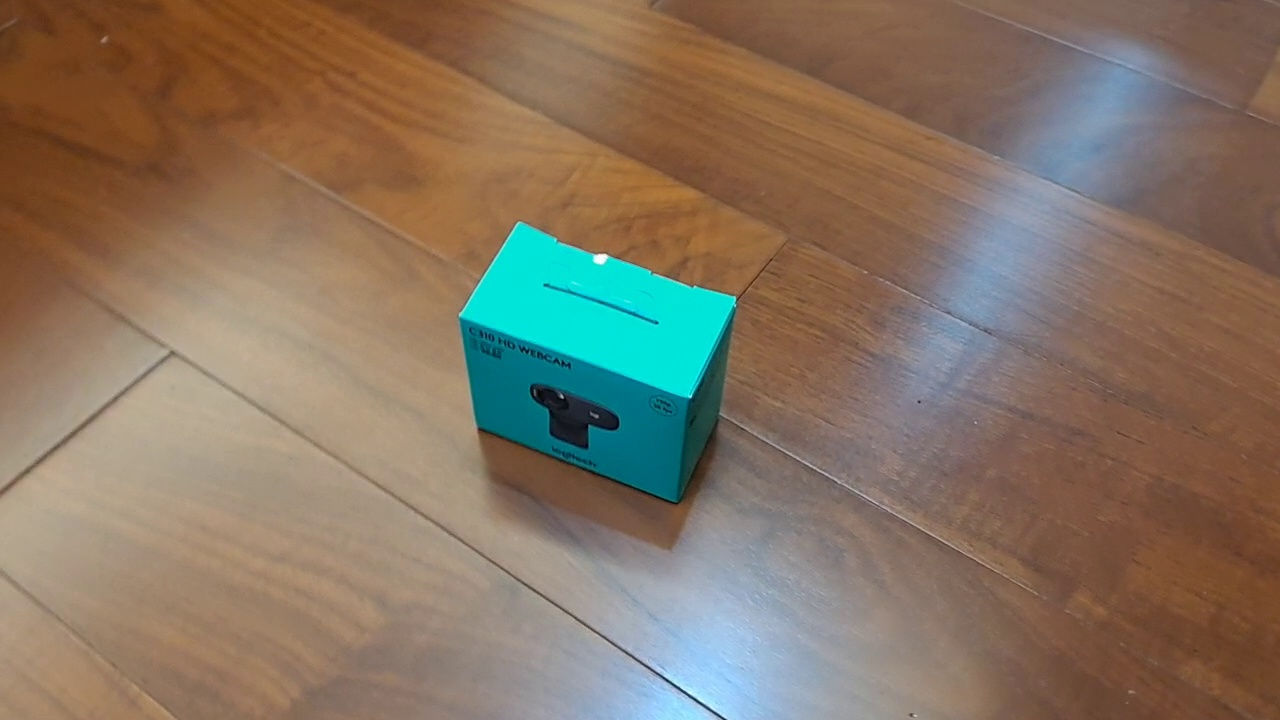webcam: (457, 220, 738, 507)
